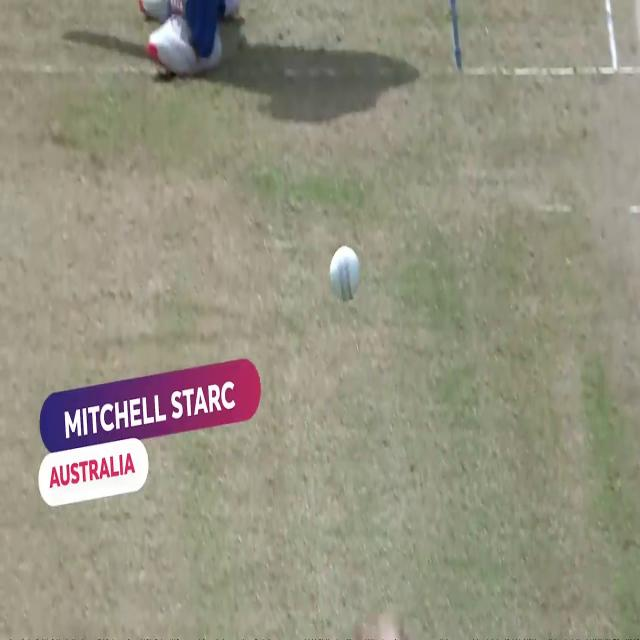ball: (325, 236, 371, 306)
